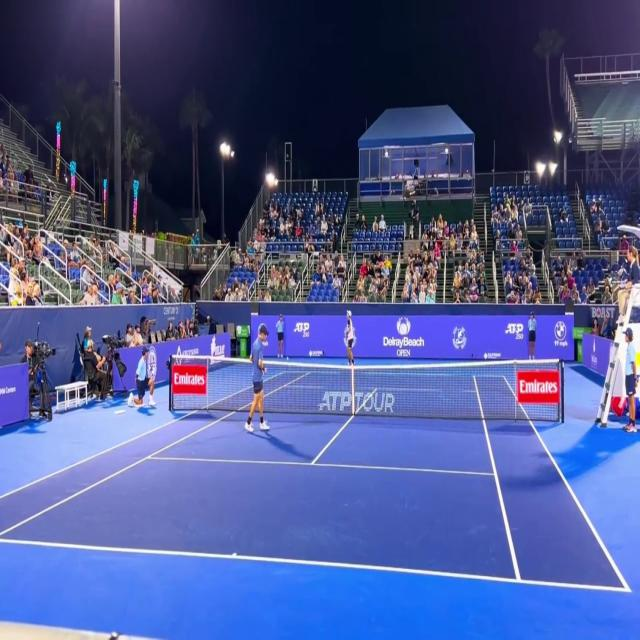tennisBall: (284, 354, 290, 362)
